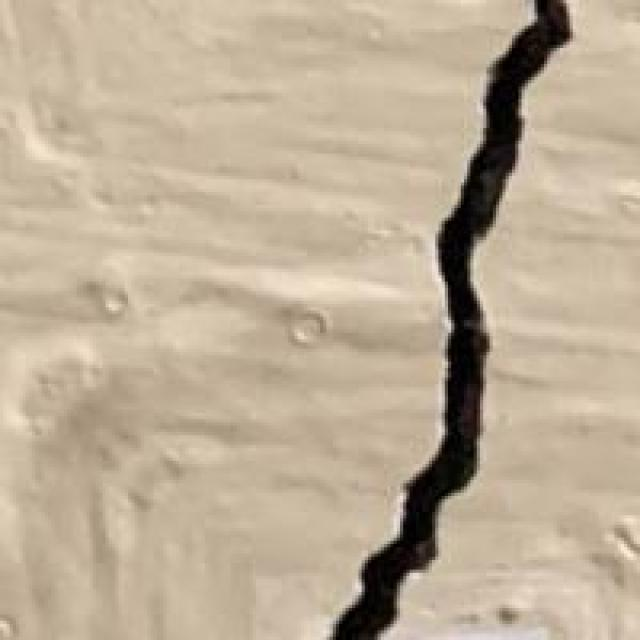Crack: (278, 0, 637, 637)
